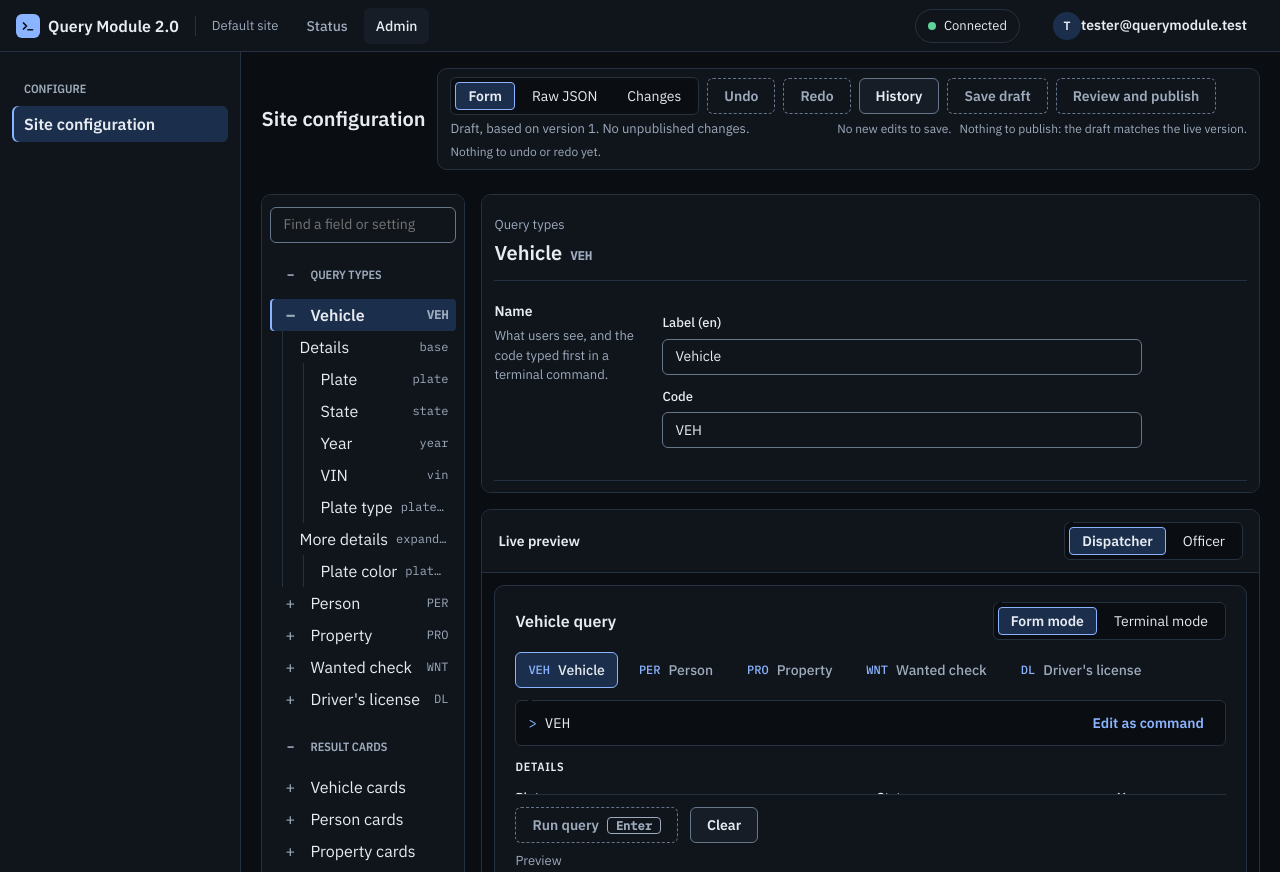
Test: field editor (Task 31 part 2, FR-060, UX-004) › reorders fields with Move up and Move down and keeps focus on the moved field
Check: the tab "Form" is shown, box [456, 82, 515, 110]
Click the list item "Person PER" at x=335, y=602, box [270, 586, 456, 618]
(page scrolled)
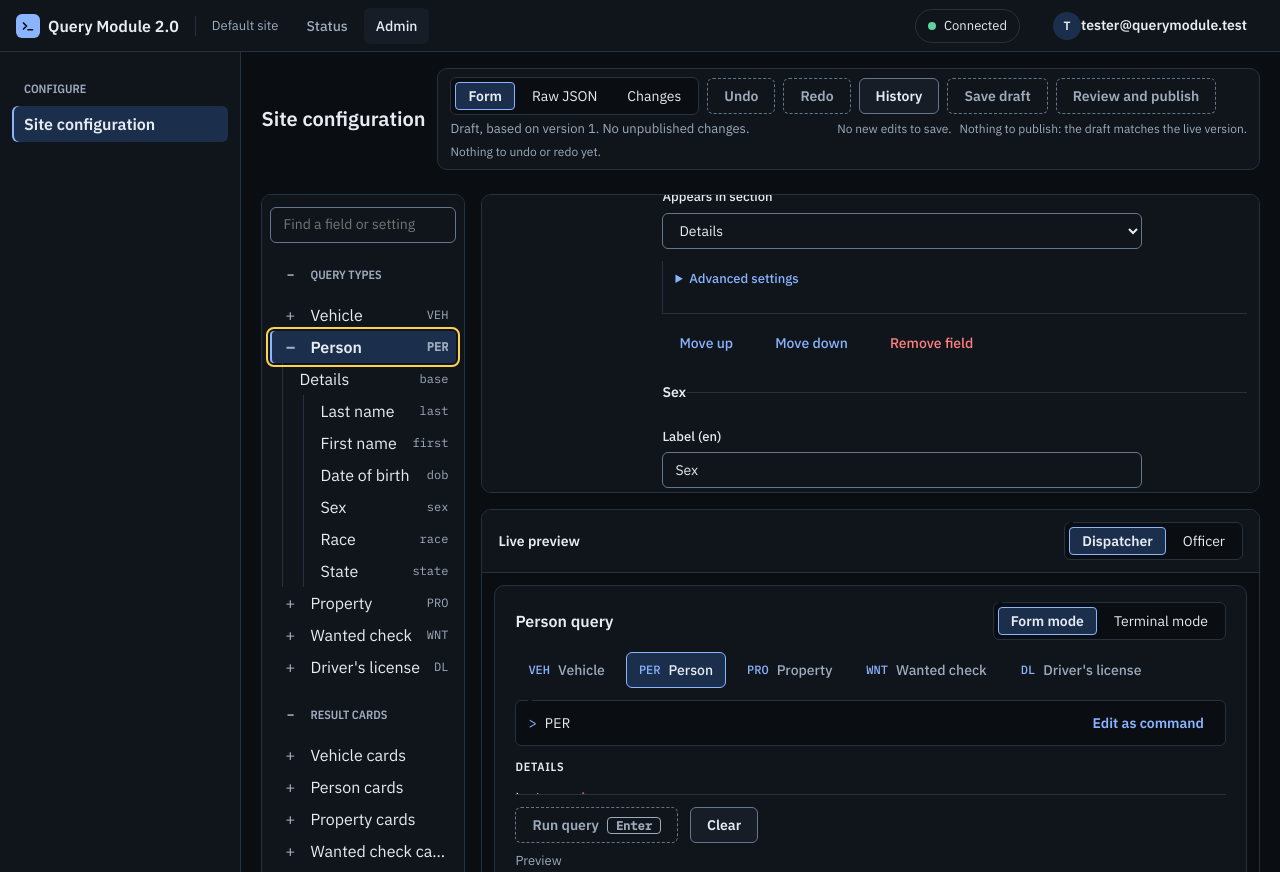
Click the button named "Move up dob" at x=706, y=344, box [662, 326, 750, 362]
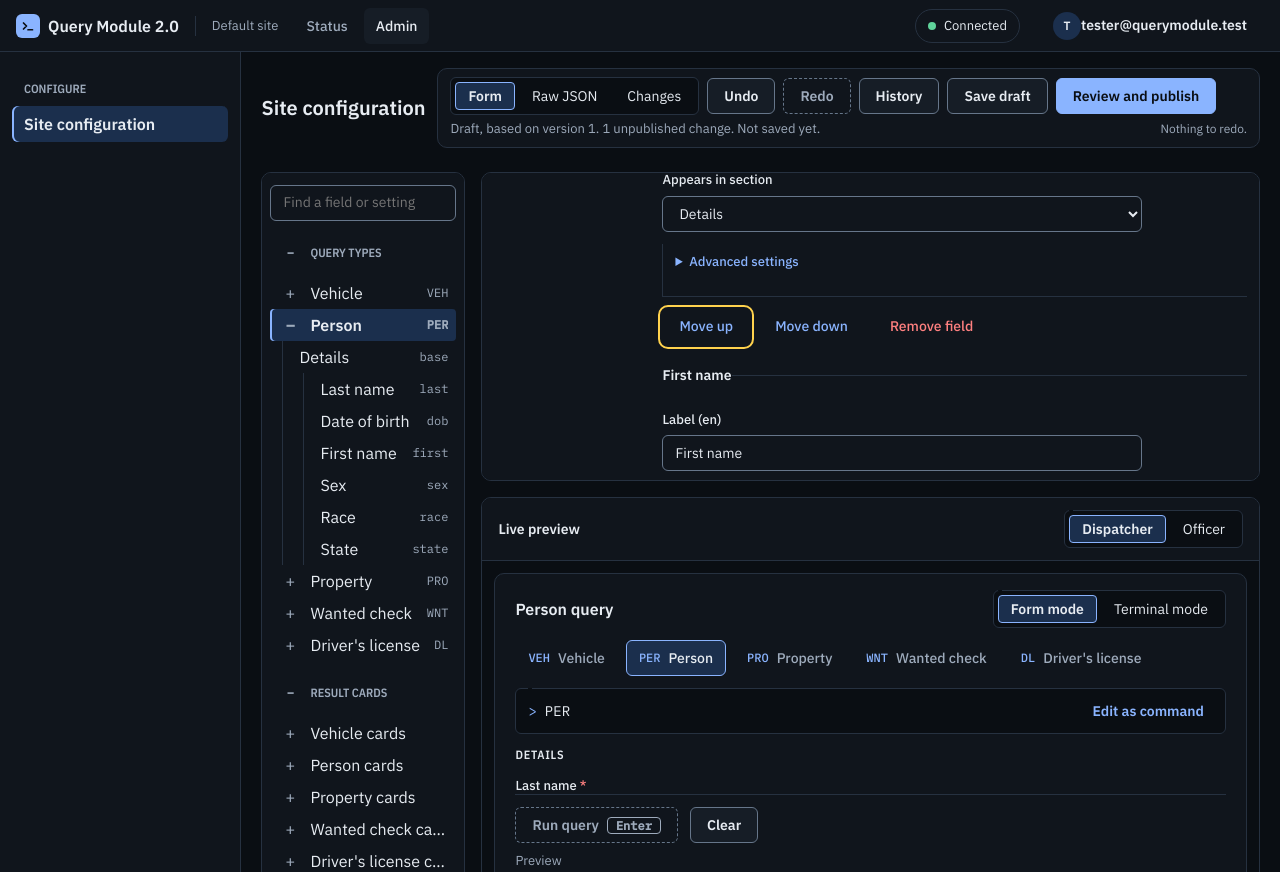
Press Enter
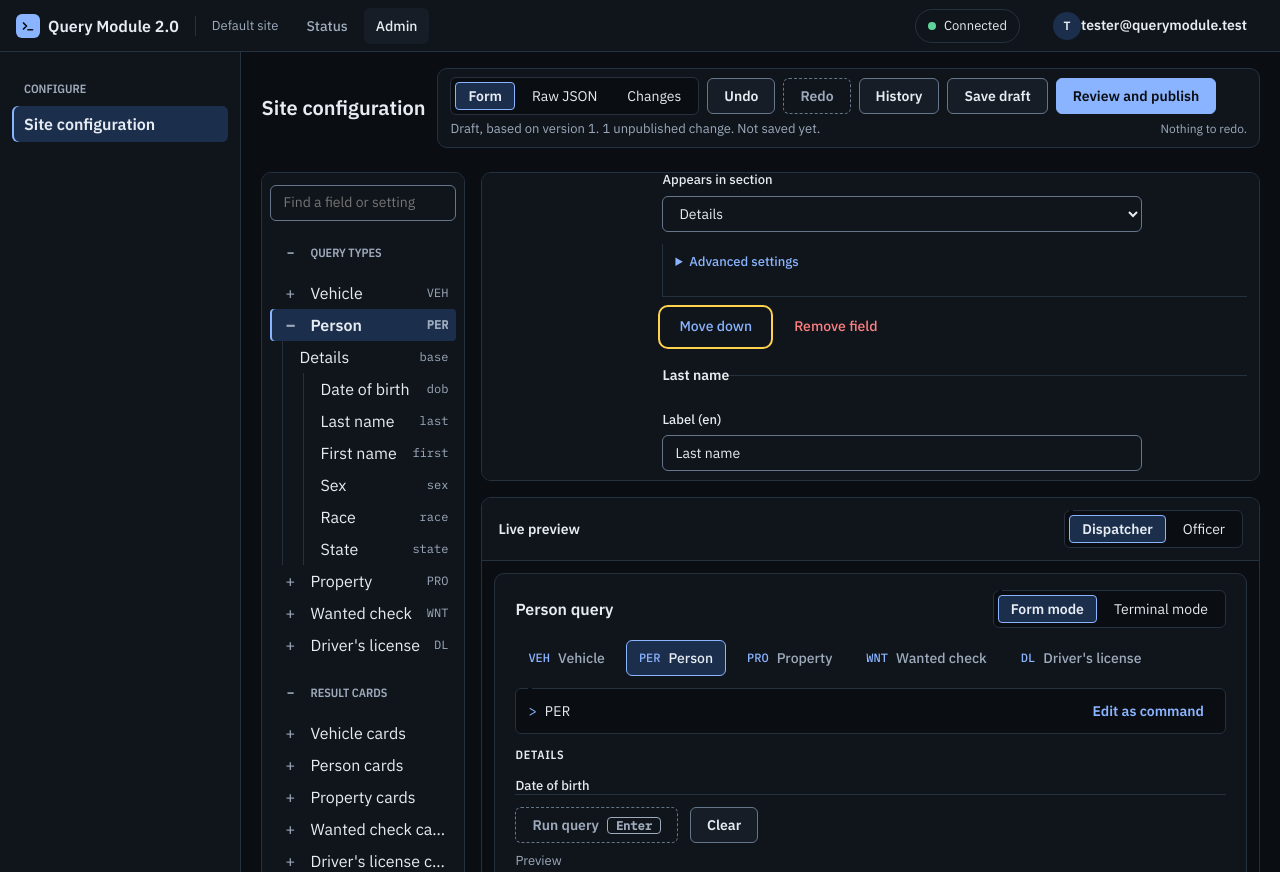
Check: the text "dob" is shown, box [427, 380, 448, 398]
